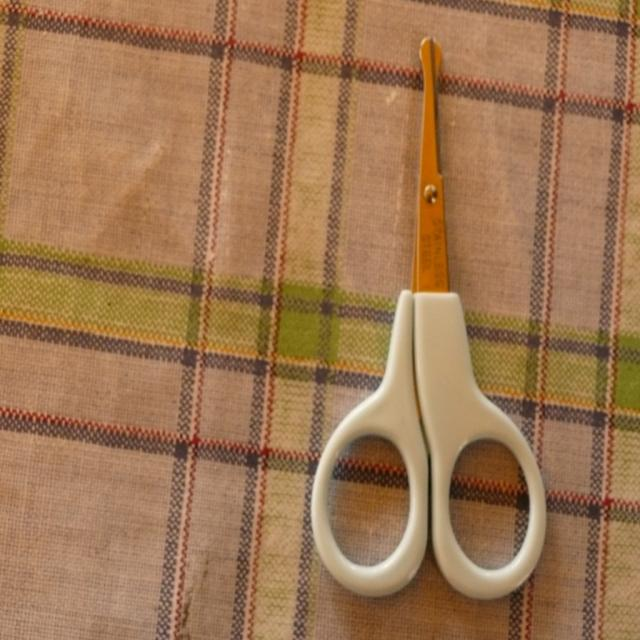scissors: (310, 35, 547, 600)
